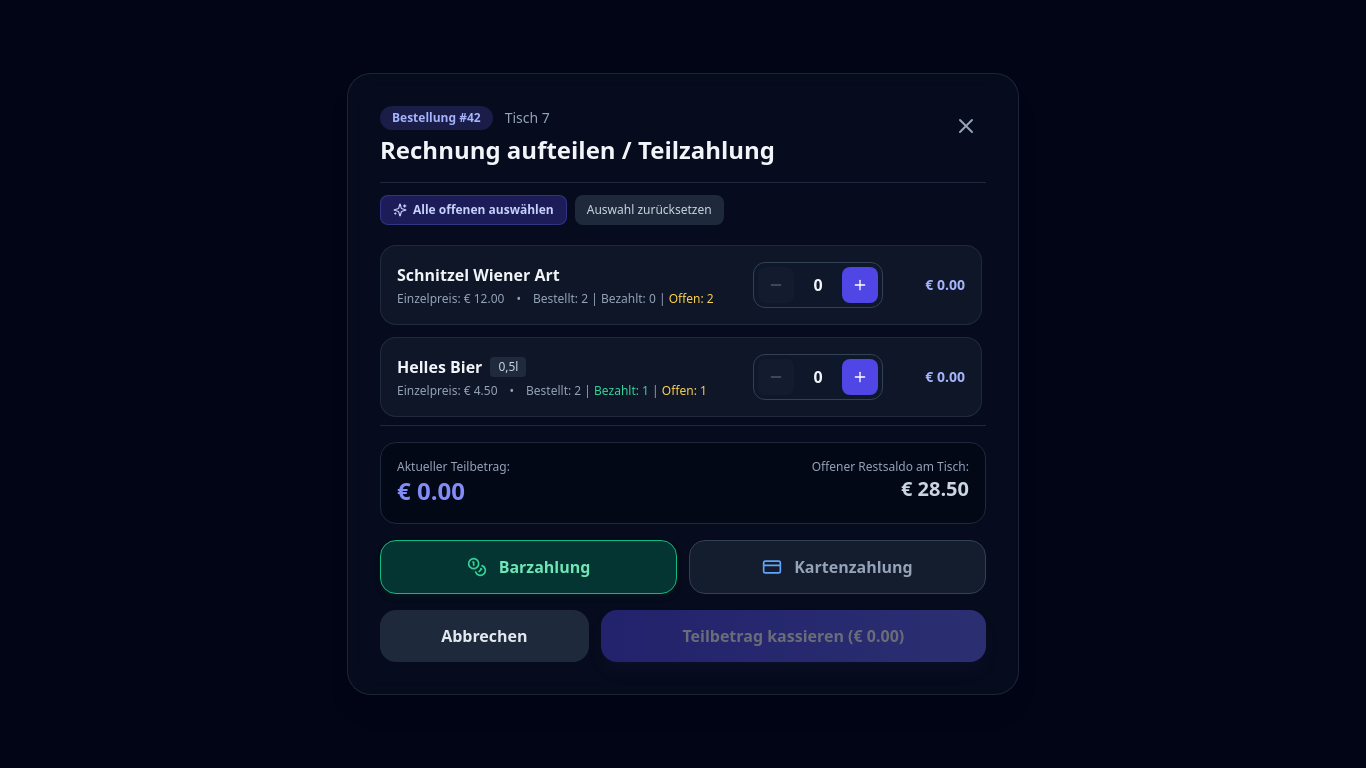
it: OrderSplitModal (#136) › erlaubt Mengenauswahl und berechnet den Teilbetrag live
What coordinates should you click on to do the following:
click the button named "Menge für Schnitzel Wiener Art erhöhen"
I would click on:
 (860, 285)
Its box is [842,267,878,303].
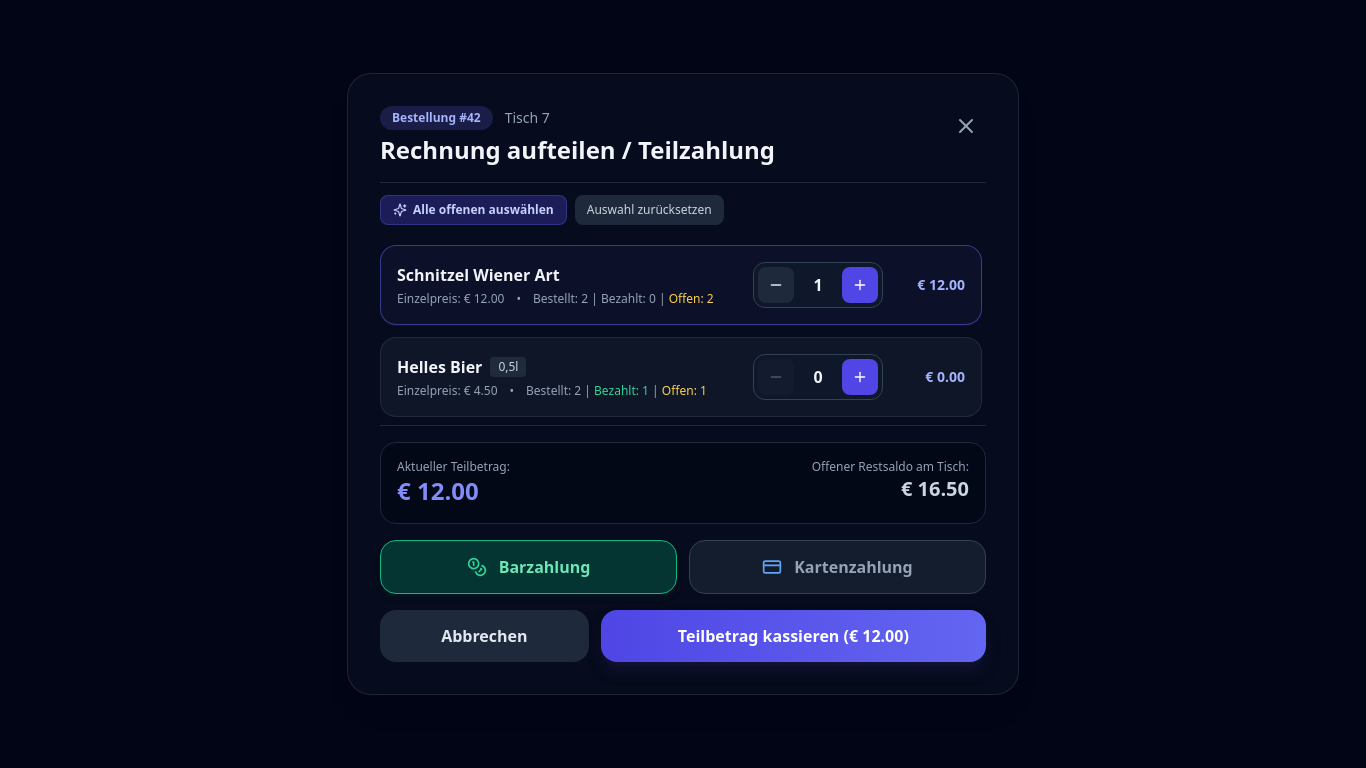
Now the text with test id "selected-qty-item-1" reads "1", box [813,274,823,296]
Now the text with test id "split-total-cents" reads "€ 12.00", box [397,474,479,507]
What coordinates should you click on to do the following:
click the button named "Menge für Helles Bier erhöhen"
I would click on:
 (860, 377)
Its box is [842,359,878,395].
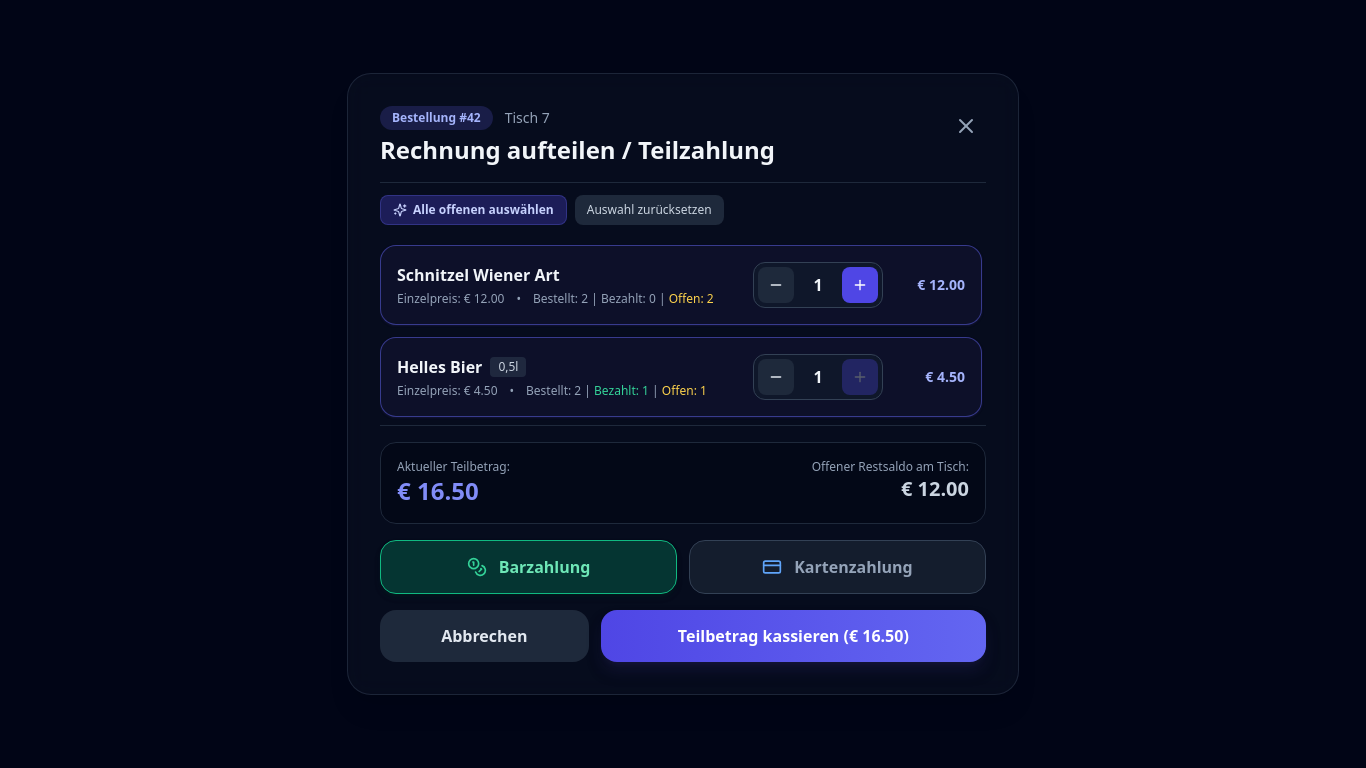
Now the text with test id "selected-qty-item-2" reads "1", box [813,366,823,388]
Now the text with test id "split-total-cents" reads "€ 16.50", box [397,474,479,507]
